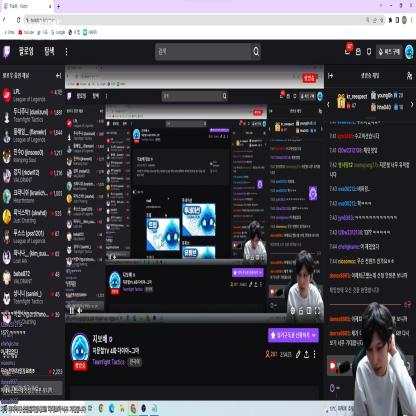streamer: (354, 302, 416, 416), (286, 250, 324, 323), (244, 220, 268, 264)
